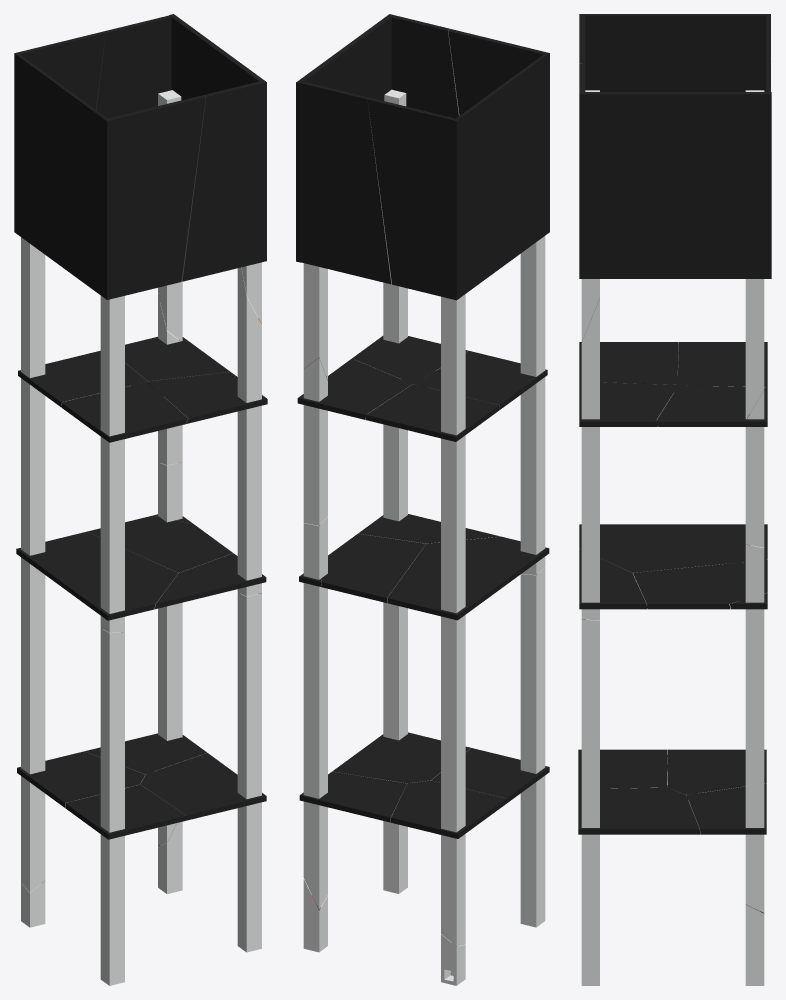
Rendered from Standing_Shelf_DEST.fbx.
3 renders of one model, left to right at view 1: azimuth 30°, elevation 25°; view 2: azimuth 150°, elevation 25°; view 3: azimuth 270°, elevation 25°, orthographic. The views are drawn at different scales.
Visible parts, largest first — view 1: model:mesh198013408.007, model:mesh198013408.002, model:mesh198013408.002_cell.002, model:mesh198013408_cell.001, model:mesh198013408.001_cell.001, model:mesh198013408.001_cell, model:mesh198013408_cell, model:mesh198013408.005_cell.001, model:mesh198013408.001, model:mesh198013408.003_cell.002, model:mesh198013408.004_cell.002, model:mesh198013408.005_cell.002 (+13 smaller); view 2: model:mesh198013408.007, model:mesh198013408.002_cell.002, model:mesh198013408.001, model:mesh198013408.002, model:mesh198013408.003_cell.002, model:mesh198013408.001_cell.001, model:mesh198013408.001_cell, model:mesh198013408.005_cell.001, model:mesh198013408_cell.001, model:mesh198013408.005_cell.002, model:mesh198013408.004_cell.002, model:mesh198013408.003_cell.003 (+12 smaller); view 3: model:mesh198013408.002, model:mesh198013408.007, model:mesh198013408.003_cell.002, model:mesh198013408_cell.001, model:mesh198013408.005_cell.001, model:mesh198013408_cell, model:mesh198013408.004_cell.002, model:mesh198013408.005_cell.002, model:mesh198013408.006_cell.001, model:mesh198013408.004_cell.001, model:mesh198013408.006_cell.003, model:mesh198013408.006_cell (+8 smaller).
Part boxes in pixels (box(x1,y1,x2,y2)): model:mesh198013408.007: box(14, 31, 205, 299); model:mesh198013408.002: box(169, 14, 266, 281); model:mesh198013408.002_cell.002: box(21, 237, 45, 892); model:mesh198013408_cell.001: box(237, 592, 261, 952); model:mesh198013408.001_cell.001: box(100, 628, 124, 985); model:mesh198013408.001_cell: box(100, 296, 124, 632); model:mesh198013408_cell: box(237, 267, 261, 596); model:mesh198013408.005_cell.001: box(16, 531, 178, 620); model:mesh198013408.001: box(96, 15, 172, 118); model:mesh198013408.003_cell.002: box(158, 462, 182, 845); model:mesh198013408.004_cell.002: box(140, 753, 266, 820); model:mesh198013408.005_cell.002: box(87, 515, 232, 573); model:mesh198013408.007: box(367, 29, 549, 300); model:mesh198013408.002_cell.002: box(441, 294, 465, 946); model:mesh198013408.001: box(301, 81, 391, 284); model:mesh198013408.002: box(296, 14, 459, 262); model:mesh198013408.003_cell.002: box(303, 517, 327, 909); model:mesh198013408.001_cell.001: box(520, 568, 545, 927); model:mesh198013408.001_cell: box(520, 236, 545, 574); model:mesh198013408.005_cell.001: box(387, 536, 549, 620); model:mesh198013408_cell.001: box(383, 602, 407, 893); model:mesh198013408.005_cell.002: box(321, 533, 425, 602); model:mesh198013408.004_cell.002: box(332, 732, 470, 783); model:mesh198013408.003_cell.003: box(303, 358, 327, 525); model:mesh198013408.002: box(579, 63, 771, 278); model:mesh198013408.007: box(579, 14, 770, 91); model:mesh198013408.003_cell.002: box(745, 544, 764, 913); model:mesh198013408_cell.001: box(581, 619, 599, 985); model:mesh198013408.005_cell.001: box(579, 524, 767, 573); model:mesh198013408_cell: box(581, 298, 599, 620); model:mesh198013408.004_cell.002: box(578, 787, 699, 834); model:mesh198013408.005_cell.002: box(633, 560, 767, 609); model:mesh198013408.006_cell.001: box(656, 385, 767, 426); model:mesh198013408.004_cell.001: box(667, 749, 766, 794); model:mesh198013408.006_cell.003: box(579, 342, 678, 384); model:mesh198013408.006_cell: box(677, 342, 767, 387).
Size of the model in its own units: 1.18 by 6.09 by 1.2.
